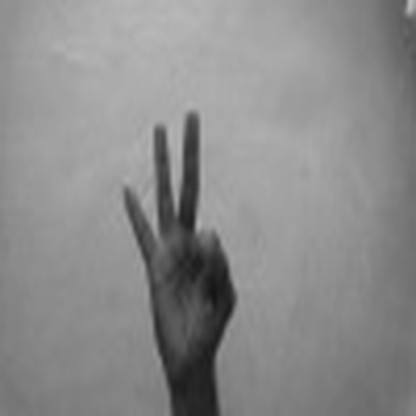f: (107, 101, 244, 382)
